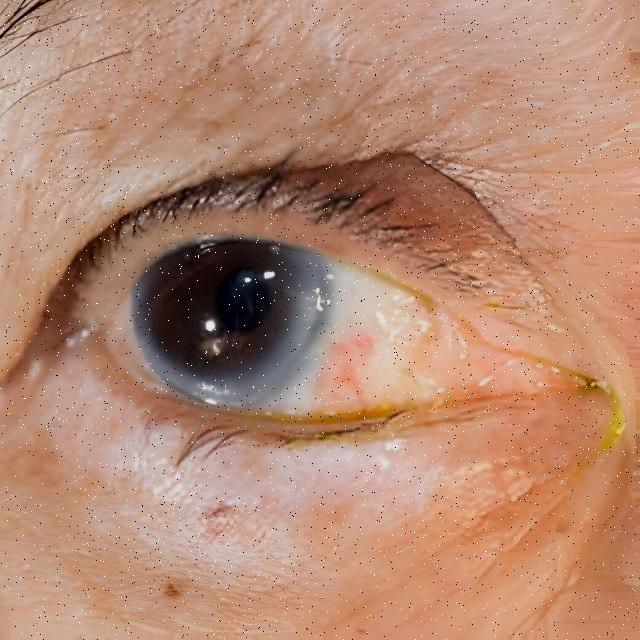Pterygium: (294, 280, 514, 420)
